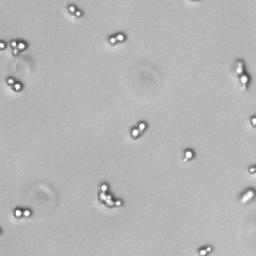budding: (125, 117, 153, 141), (173, 144, 201, 168), (102, 25, 130, 49), (2, 73, 30, 97), (235, 181, 256, 213), (61, 1, 89, 24), (8, 35, 28, 58), (190, 242, 219, 256), (9, 204, 36, 218)
cluster: (90, 178, 127, 210), (232, 58, 253, 90)
individual: (1, 35, 6, 57)
